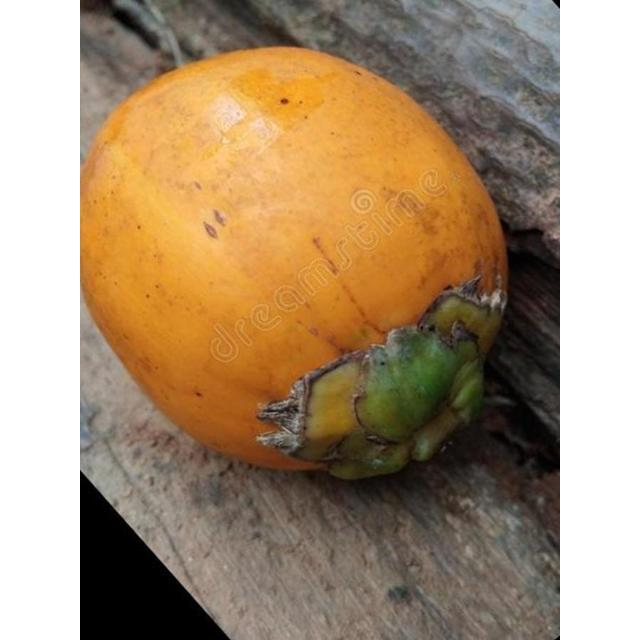good: (80, 46, 510, 482)
